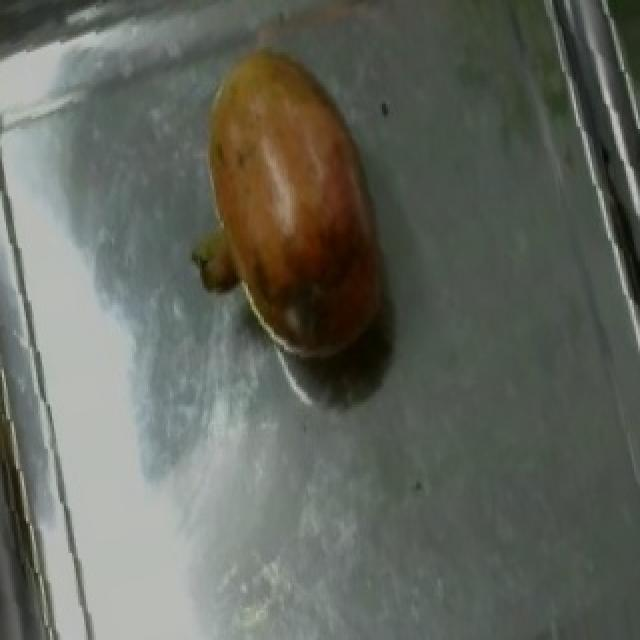fruit: (166, 38, 412, 390)
